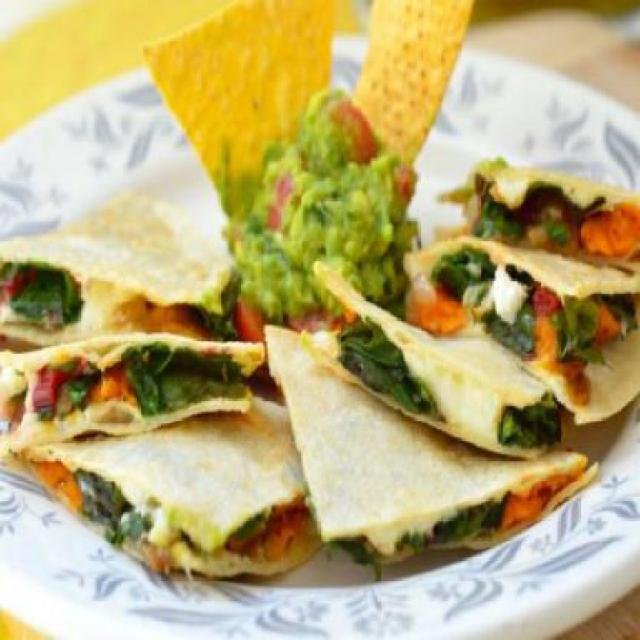guacamole: (224, 87, 419, 305)
